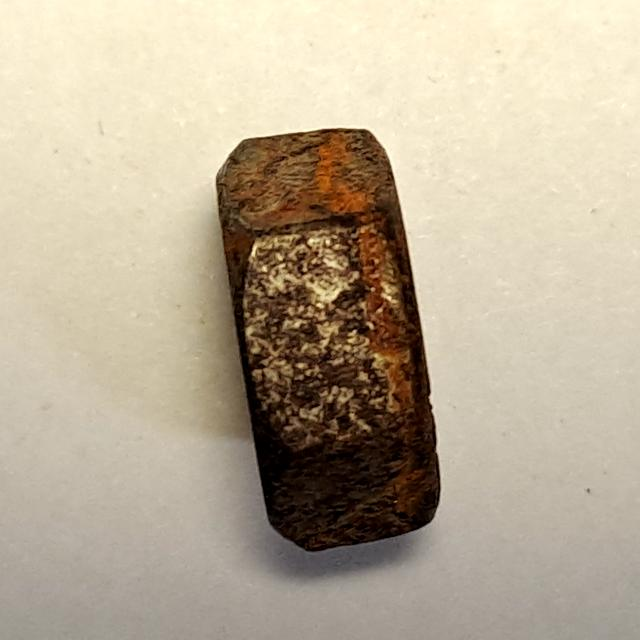Side_Rust: (203, 122, 454, 569)
